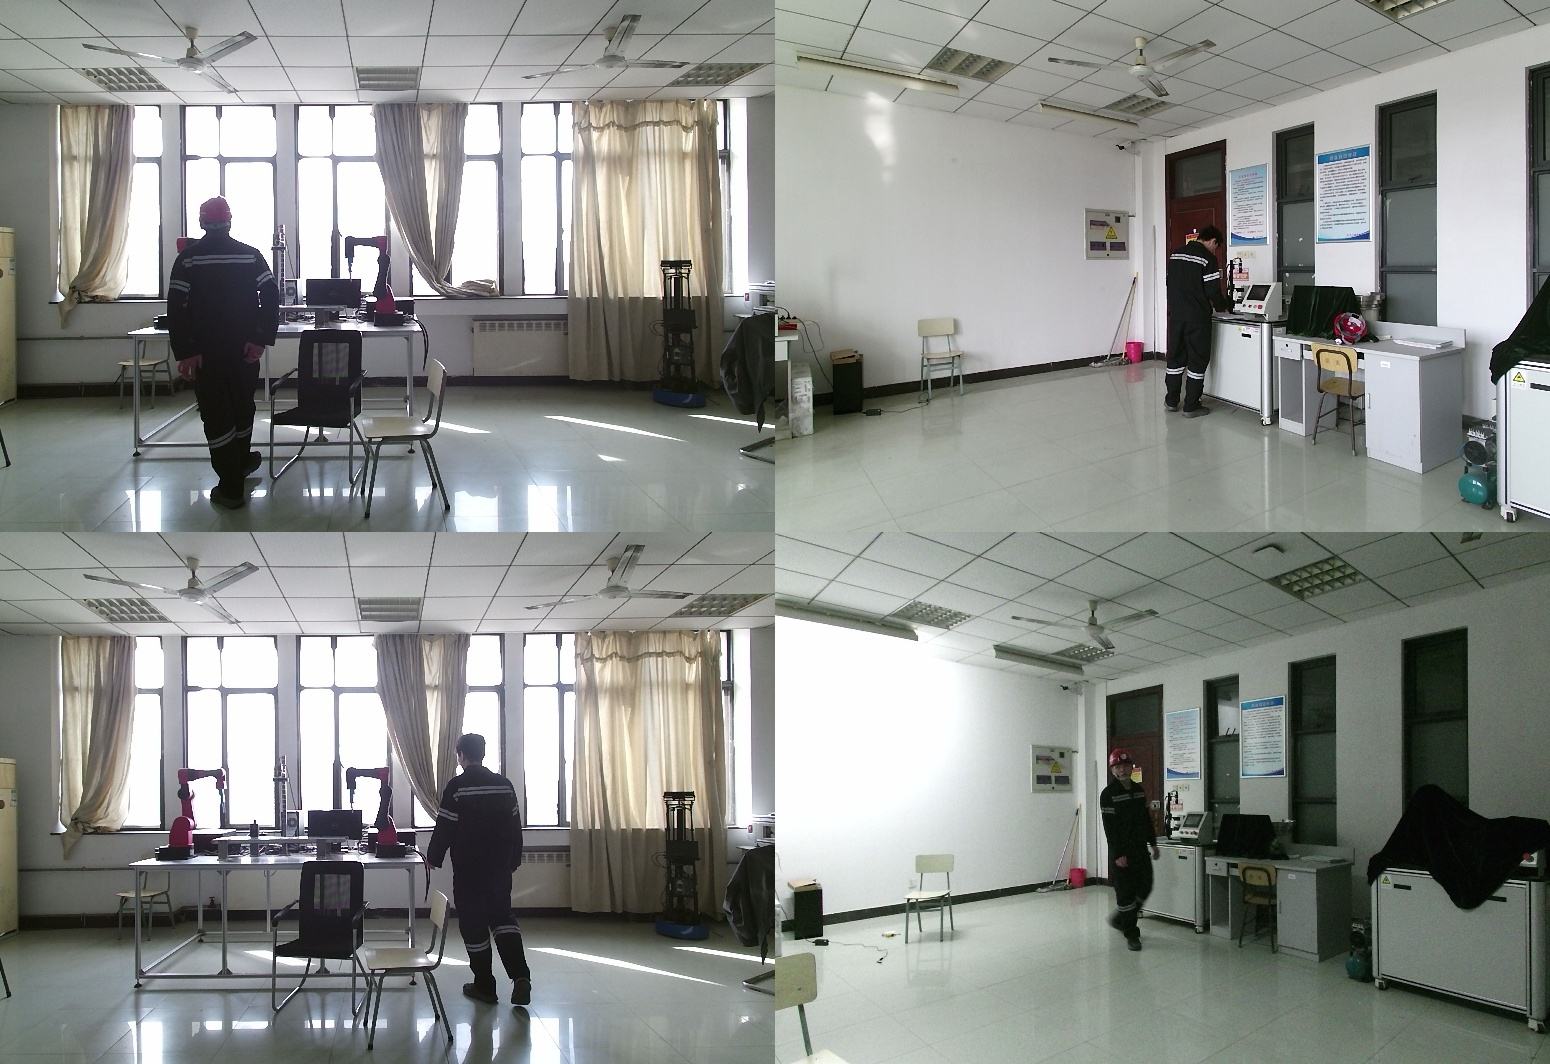person: (165, 198, 283, 509), (432, 736, 538, 1006), (1163, 229, 1228, 421), (1097, 752, 1155, 961)
